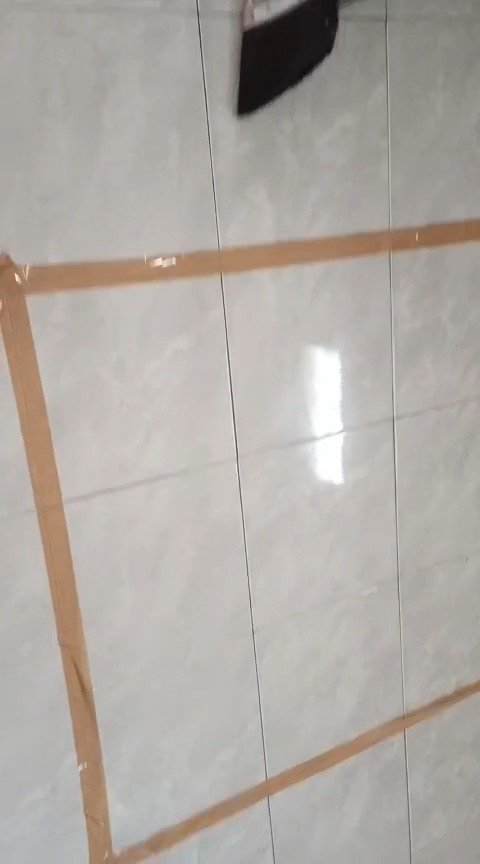floor marking: (1, 219, 479, 863)
